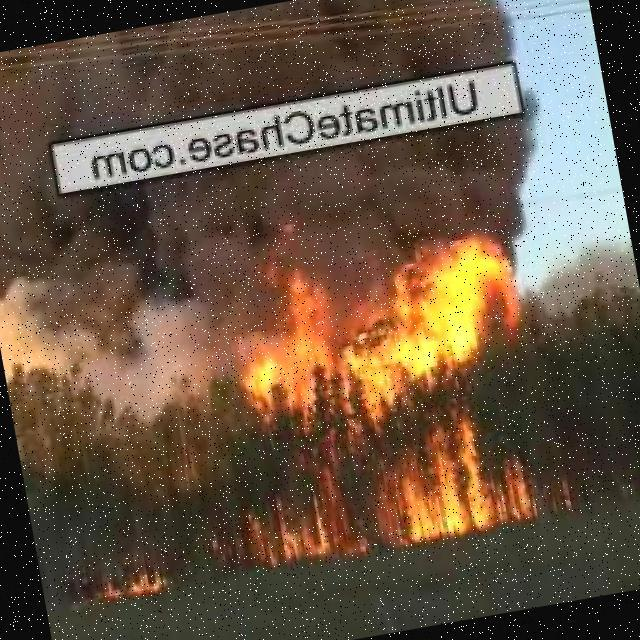Fire: (200, 227, 560, 570), (96, 555, 169, 604)
